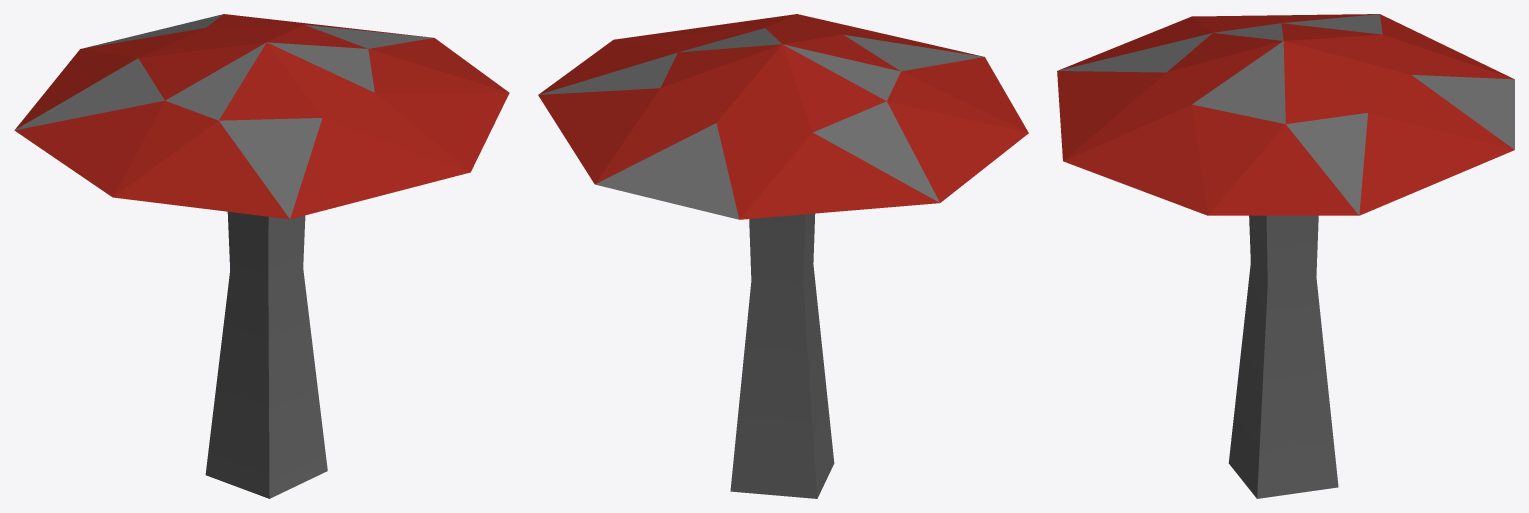
File: Mushroom_Big_1.fbx
3 renders of one model, left to right at view 1: azimuth 30°, elevation 25°; view 2: azimuth 150°, elevation 25°; view 3: azimuth 270°, elevation 25°, orthographic.
Parts seen in each view (by area): view 1: Mushroom_Big_1; view 2: Mushroom_Big_1; view 3: Mushroom_Big_1.
Part boxes in pixels (left/top/right/bottom): Mushroom_Big_1: left=14, top=14, right=509, bottom=498; Mushroom_Big_1: left=538, top=14, right=1028, bottom=498; Mushroom_Big_1: left=1057, top=14, right=1514, bottom=498.
Size of the model in its own units: 74.03 by 74.3 by 70.97.
